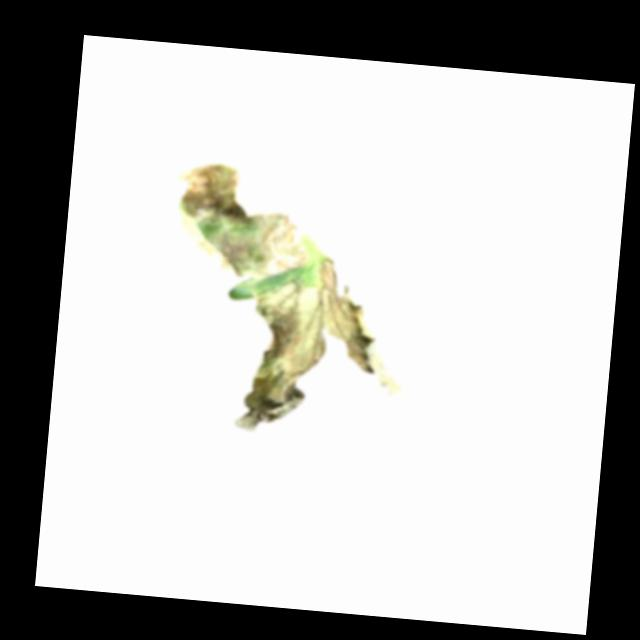Late_blight: (230, 249, 412, 447), (168, 157, 314, 282)
